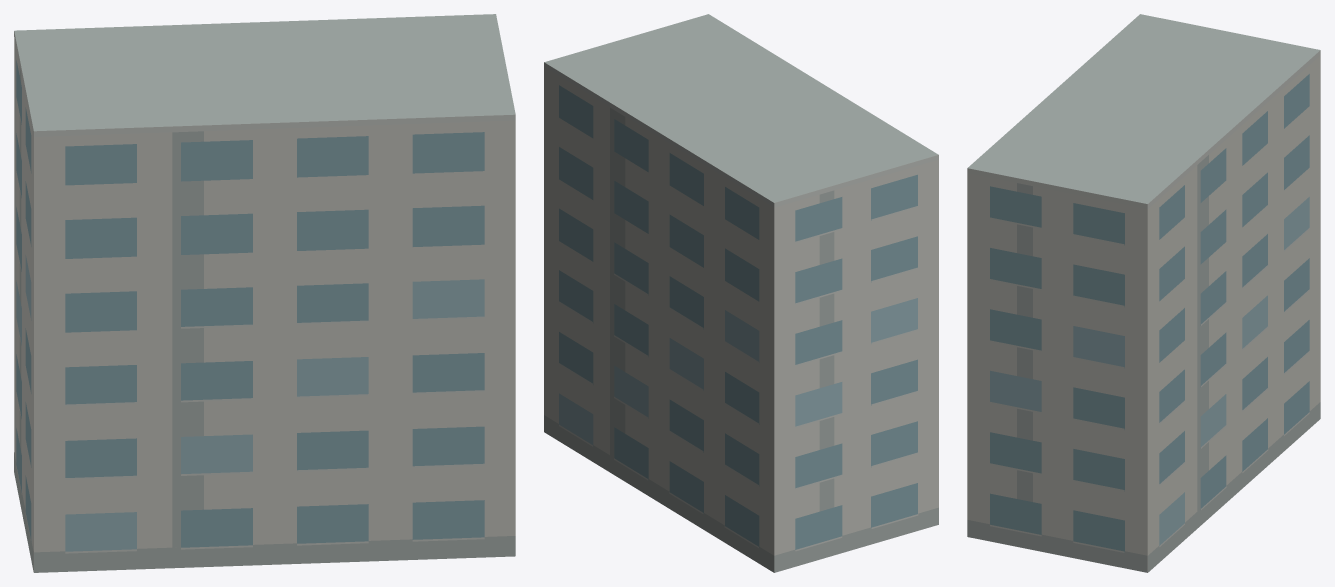
The model's file is survey-upis-32553331.glb.
The picture shows the model from 3 angles, left to right: view 1: azimuth 30°, elevation 25°; view 2: azimuth 150°, elevation 25°; view 3: azimuth 270°, elevation 25°; orthographic projection. The views are drawn at different scales.
Visible parts, largest first — view 1: survey-upis-32553331.tmp; view 2: survey-upis-32553331.tmp; view 3: survey-upis-32553331.tmp.
Boxes of the visible parts, x1,y1,x2,y2 form: survey-upis-32553331.tmp: (14, 14, 515, 572); survey-upis-32553331.tmp: (544, 14, 938, 572); survey-upis-32553331.tmp: (967, 14, 1320, 572).
Size of the model in its own units: 20.25 by 18.3 by 15.9.
